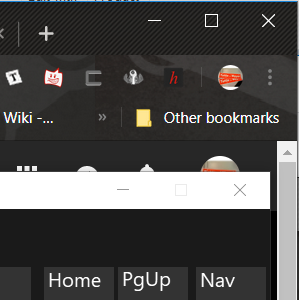close: (253, 7, 283, 34), (224, 178, 256, 203)
